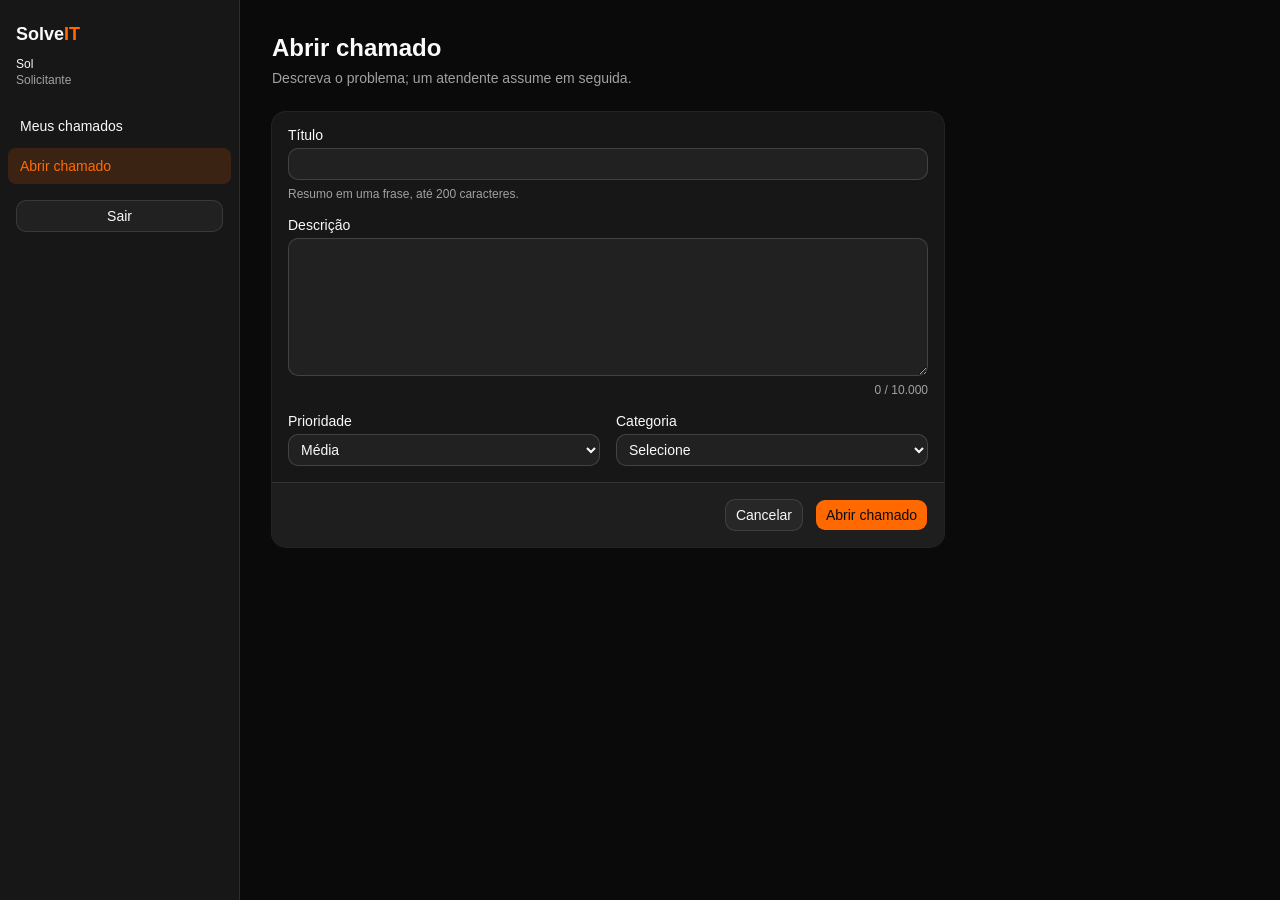
Test: abertura de chamado › não envia enquanto faltam campos obrigatórios
What coordinates should you click on to do the following:
click the button "Abrir chamado"
I would click on:
 (872, 515)
Its box is [815,499,928,531].
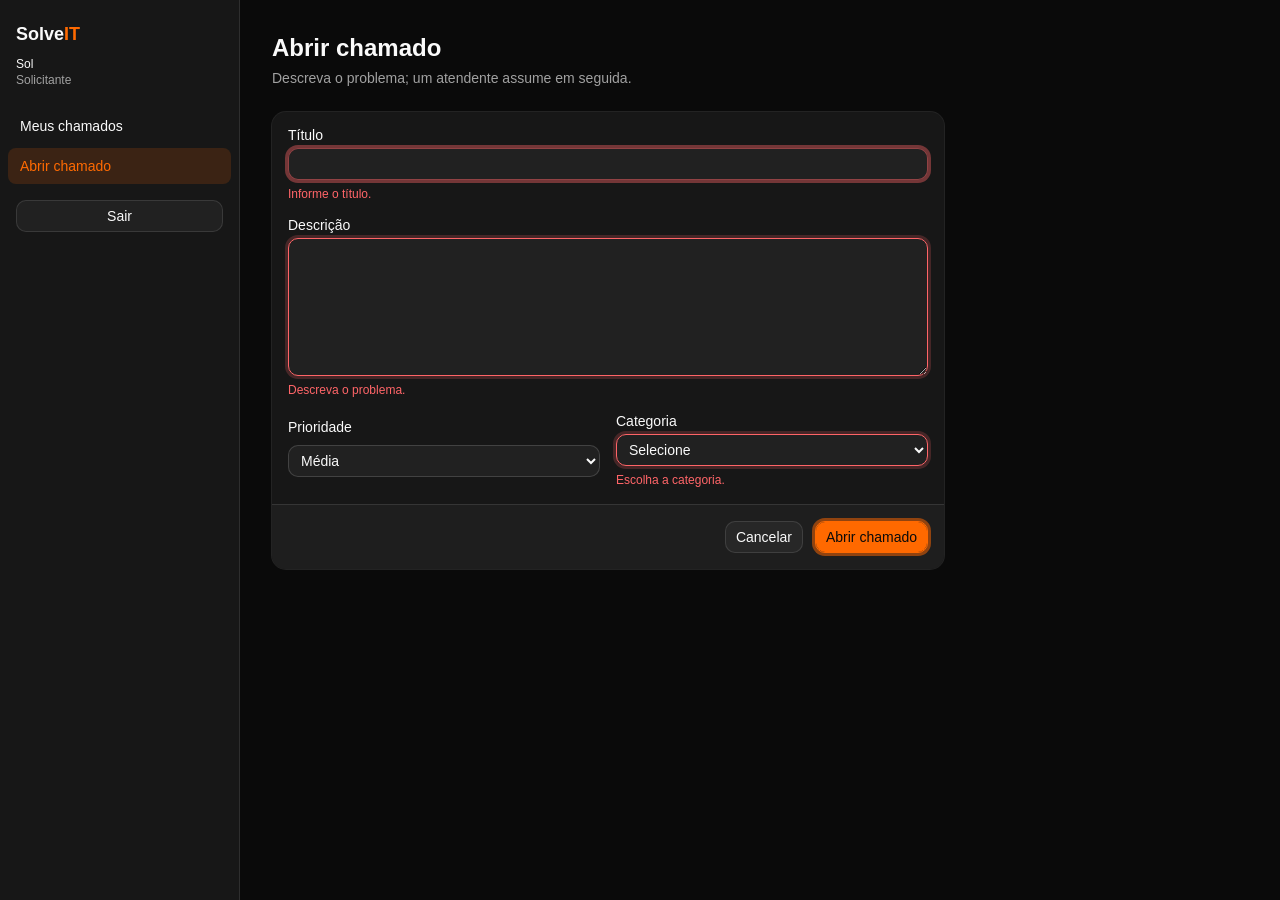
Expected: the text "Informe o título." is shown, [288,187,371,201]
Expected: the text "Descreva o problema." is shown, [288,383,405,397]
Expected: the text "Escolha a categoria." is shown, [616,473,725,487]
